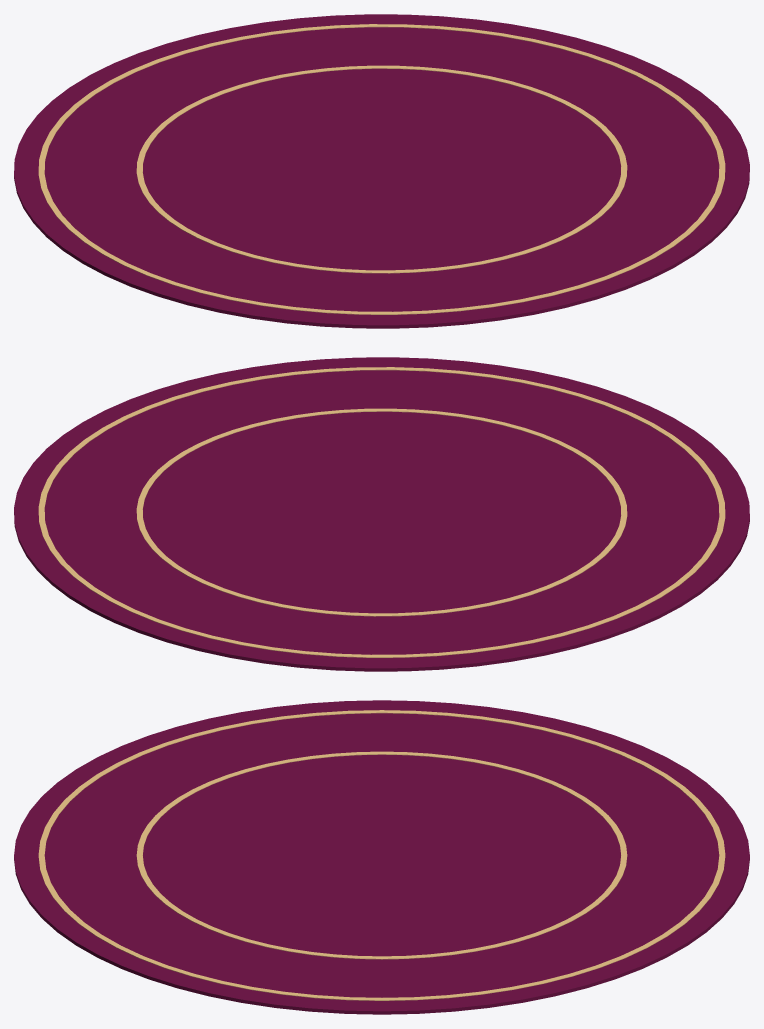
The model's file is KIT_Tapete.glb.
3 renders of one model, top to bottom at view 1: azimuth 30°, elevation 25°; view 2: azimuth 150°, elevation 25°; view 3: azimuth 270°, elevation 25°, orthographic.
Visible parts, largest first — view 1: KIT_Tapete; view 2: KIT_Tapete; view 3: KIT_Tapete.
Boxes of the visible parts, x1,y1,x2,y2 form: KIT_Tapete: (14,14,749,328); KIT_Tapete: (14,357,749,671); KIT_Tapete: (14,700,749,1014).
Size of the model in its own units: 2.4 by 0.014 by 2.4.
